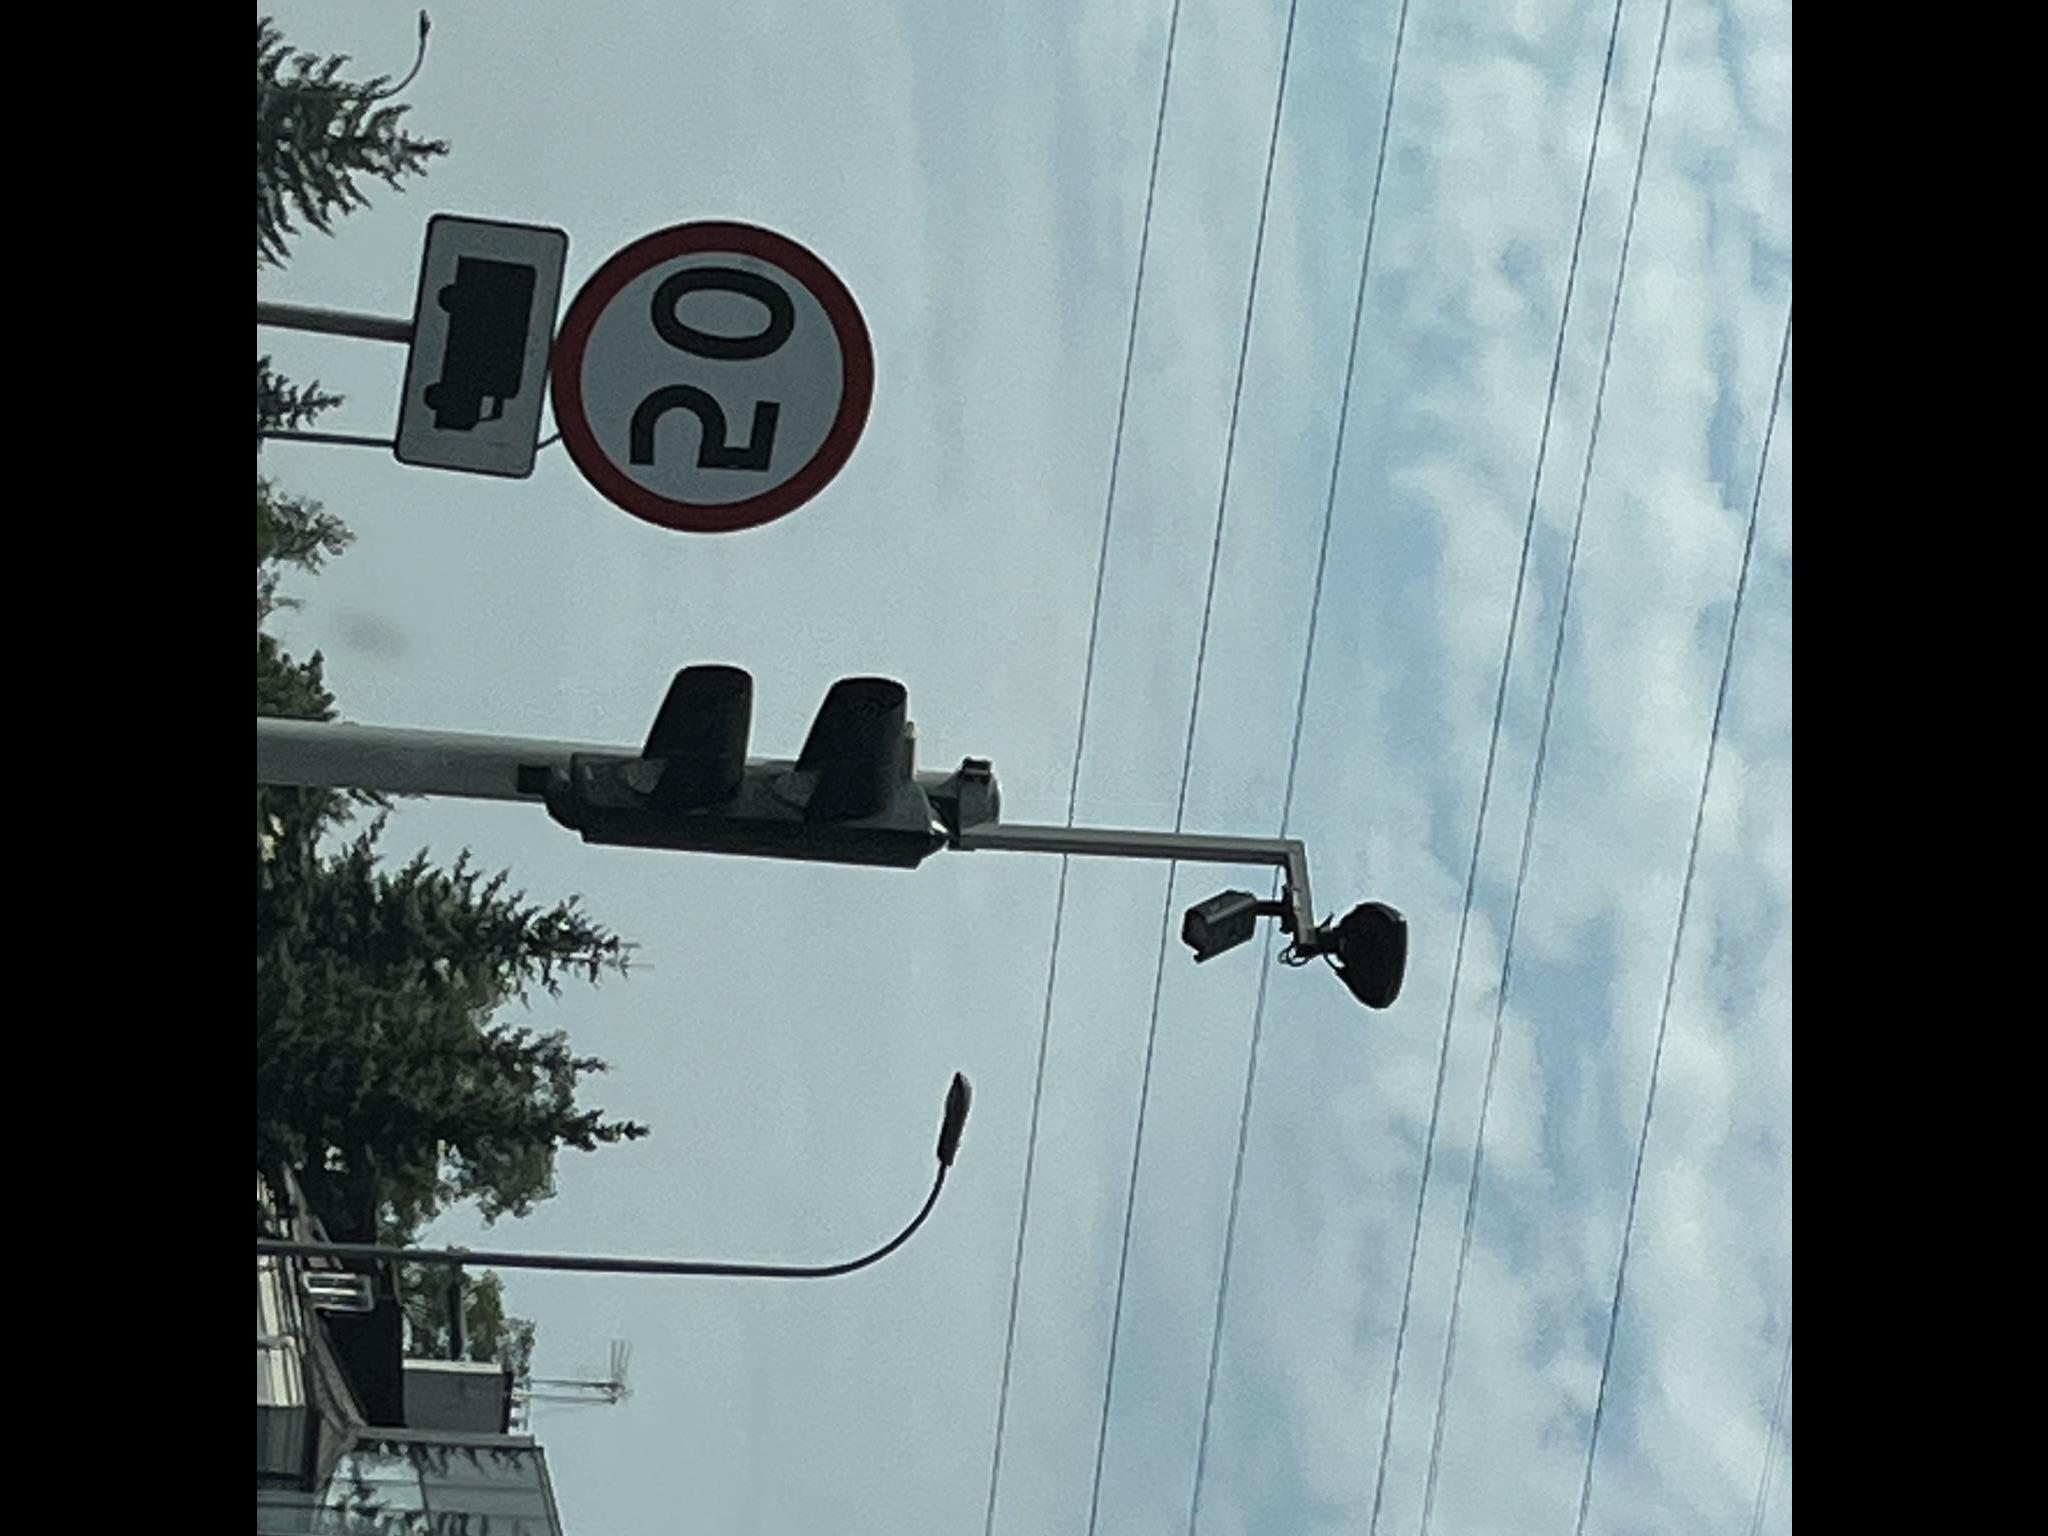prohibitory: (550, 218, 876, 537)
